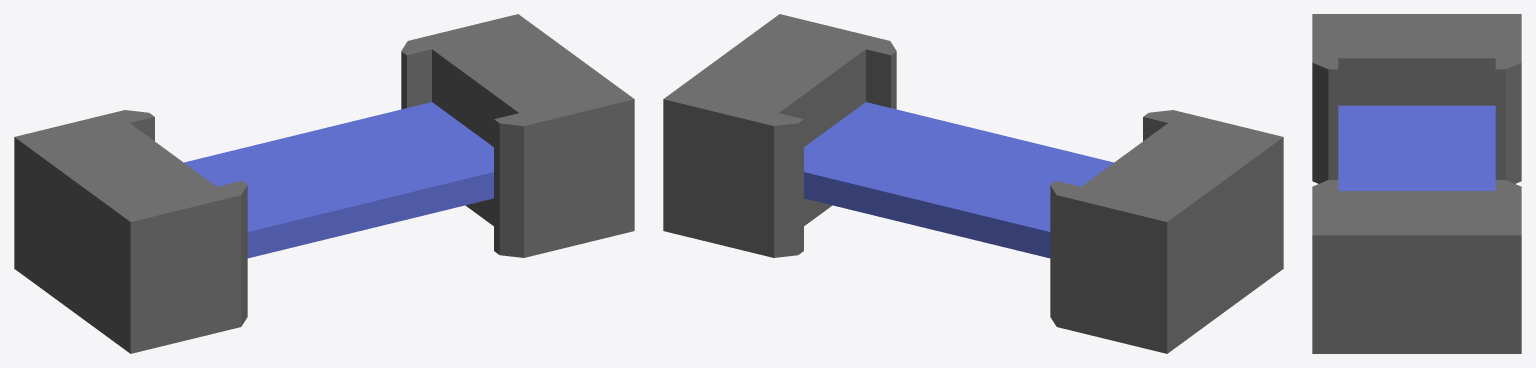
Rendered from elevator_platform.fbx.
3 views of the same model, side by side, from view 1: azimuth 30°, elevation 25°; view 2: azimuth 150°, elevation 25°; view 3: azimuth 270°, elevation 25° (orthographic). The views are drawn at different scales.
Visible parts, largest first — view 1: elevator_wall, elevator_platform; view 2: elevator_wall, elevator_platform; view 3: elevator_wall, elevator_platform.
Boxes of the visible parts, x1,y1,x2,y2 form: elevator_wall: (14,14,634,353); elevator_platform: (184,102,493,258); elevator_wall: (663,14,1283,353); elevator_platform: (804,102,1113,258); elevator_wall: (1312,14,1521,353); elevator_platform: (1338,105,1495,190).
Bounding box in the file's own units: 200 × 50 × 80.
